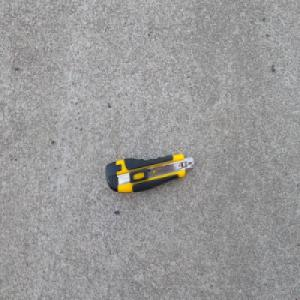Cutter: (104, 152, 194, 193)
